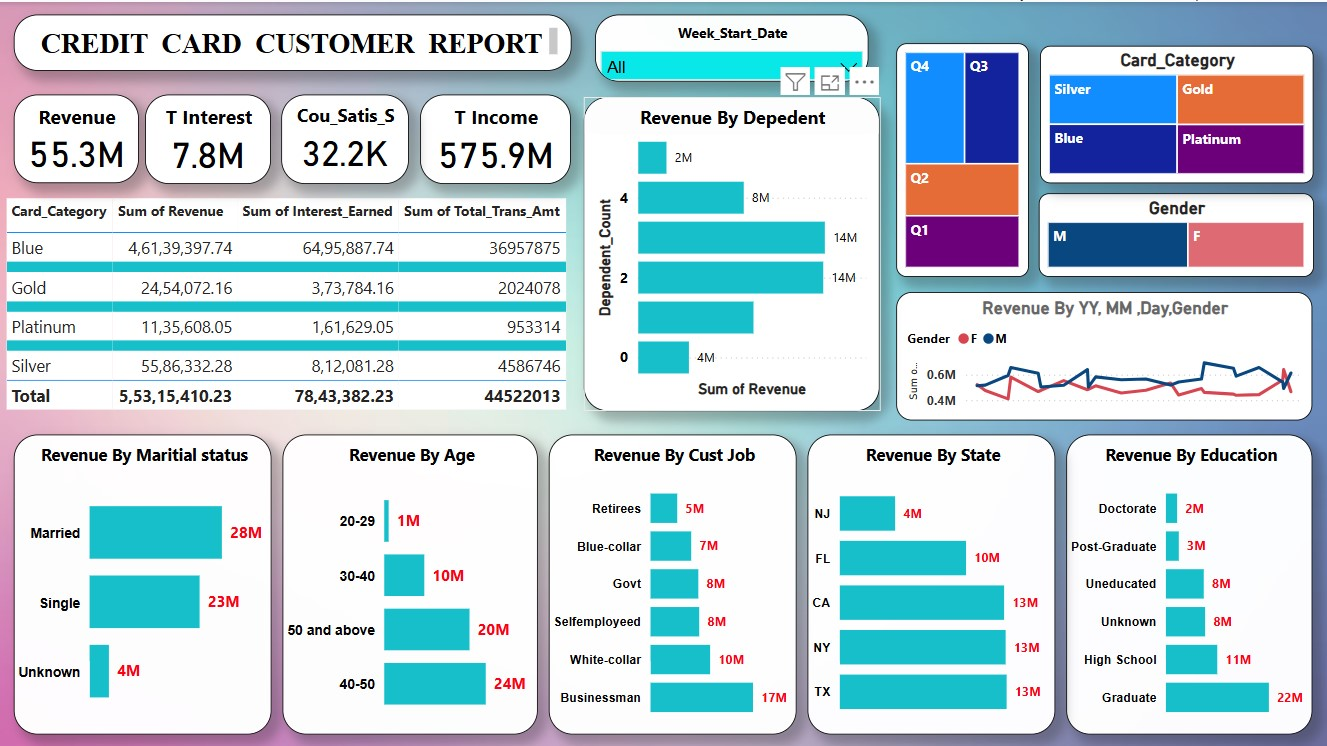

The page's visual inventory and layout, read from the dashboard file:
{"tool":"powerbi","page":{"name":"CUS ","canvas":[1280,720],"ordinal":1},"visuals":[{"type":"textbox","box":[13.3,12.1,538.1,54.3],"z":0},{"type":"tableEx","fields":{"Values":["cc_detail.Card_Category","Sum(cc_detail.Revenue)","Sum(cc_detail.Interest_Earned)","Sum(cc_detail.Total_Trans_Amt)"]},"box":[0,184.6,563.7,232.3],"z":1000},{"type":"card","title":"Revenue","fields":{"Values":["Sum(cc_detail.Revenue)"]},"box":[13.3,89.3,120.6,85.7],"z":2000},{"type":"card","title":"T Income","fields":{"Values":["Sum(cust_detail.Income)"]},"box":[405.4,89.3,146,86],"z":3000},{"type":"card","title":"T Interest ","fields":{"Values":["Sum(cc_detail.Interest_Earned)"]},"box":[139.9,89.3,121.9,86],"z":4000},{"type":"slicer","title":"Week_Start_Date","fields":{"Values":["cc_detail.Week_Start_Date"]},"box":[574.3,12.1,264.2,65.1],"z":5000},{"type":"treemap","fields":{"Group":["cc_detail.Qtr"],"Values":["Avg(cc_detail.Client_Num)"]},"box":[865,39.8,127.9,225.6],"z":6000},{"type":"card","title":"Cou_Satis_S","fields":{"Values":["Sum(cust_detail.Cust_Satisfaction_Score)"]},"box":[271.4,89.3,123.1,86],"z":7000},{"type":"treemap","title":"Gender","fields":{"Group":["cust_detail.Gender"],"Values":["Sum(cc_detail.Revenue)"]},"box":[1002.6,184.6,265.4,80.8],"z":8000},{"type":"treemap","title":"Card_Category","fields":{"Group":["cc_detail.Card_Category"],"Values":["Avg(cc_detail.Client_Num)"]},"box":[1003.8,42.2,264.2,132.7],"z":9000},{"type":"barChart","title":"Revenue By Maritial status","fields":{"Y":["Sum(cc_detail.Revenue)"],"Category":["cust_detail.Marital_Status"]},"box":[13.3,417.4,248.5,289.5],"z":10000},{"type":"lineChart","title":"Revenue By YY, MM ,Day,Gender","fields":{"Y":["Sum(cc_detail.Revenue)"],"Category":["cc_detail.Week_Start_Date.Variation.Date Hierarchy.Year","cc_detail.Week_Start_Date.Variation.Date Hierarchy.Quarter","cc_detail.Week_Start_Date.Variation.Date Hierarchy.Month","cc_detail.Week_Start_Date.Variation.Date Hierarchy.Day"],"Series":["cust_detail.Gender"]},"box":[865,279.9,401.7,124.3],"z":11000},{"type":"barChart","title":"Revenue By Age","fields":{"Y":["Sum(cc_detail.Revenue)"],"Category":["cust_detail.AgeGroup"]},"box":[272.7,417.4,246.1,289.5],"z":12000},{"type":"barChart","title":"Revenue By Cust Job","fields":{"Y":["Sum(cc_detail.Revenue)"],"Category":["cust_detail.Customer_Job"]},"box":[529.6,417.4,238.9,289.5],"z":13000},{"type":"barChart","title":"Revenue By Education","fields":{"Y":["Sum(cc_detail.Revenue)"],"Category":["cust_detail.Education_Level"]},"box":[1029.1,417.4,237.7,289.5],"z":14000},{"type":"barChart","title":"Revenue By State","fields":{"Y":["Sum(cc_detail.Revenue)"],"Category":["cust_detail.State_cd"]},"box":[779.4,417.4,238.9,289.5],"z":15000},{"type":"barChart","title":"Revenue By Depedent","fields":{"Y":["Sum(cc_detail.Revenue)"],"Category":["cust_detail.Dependent_Count"]},"box":[563.4,91.7,285.9,302.8],"z":16000}]}

Visuals, with their boxes in screenshot pixels (x1, y1, x2, y2), scaled from the page's 1280x720 canvas onto the 1327x746 screenshot:
textbox: x1=14, y1=13, x2=572, y2=69
tableEx - cc_detail.Card_Category x Sum(cc_detail.Revenue): x1=0, y1=191, x2=584, y2=432
"Revenue" card: x1=14, y1=93, x2=139, y2=181
"T Income" card: x1=420, y1=93, x2=572, y2=182
"T Interest " card: x1=145, y1=93, x2=271, y2=182
"Week_Start_Date" slicer: x1=595, y1=13, x2=869, y2=80
treemap - cc_detail.Qtr x Avg(cc_detail.Client_Num): x1=897, y1=41, x2=1029, y2=275
"Cou_Satis_S" card: x1=281, y1=93, x2=409, y2=182
"Gender" treemap: x1=1039, y1=191, x2=1315, y2=275
"Card_Category" treemap: x1=1041, y1=44, x2=1315, y2=181
"Revenue By Maritial status" barChart: x1=14, y1=432, x2=271, y2=732
"Revenue By YY, MM ,Day,Gender" lineChart: x1=897, y1=290, x2=1313, y2=419
"Revenue By Age" barChart: x1=283, y1=432, x2=538, y2=732
"Revenue By Cust Job" barChart: x1=549, y1=432, x2=797, y2=732
"Revenue By Education" barChart: x1=1067, y1=432, x2=1313, y2=732
"Revenue By State" barChart: x1=808, y1=432, x2=1056, y2=732
"Revenue By Depedent" barChart: x1=584, y1=95, x2=880, y2=409
